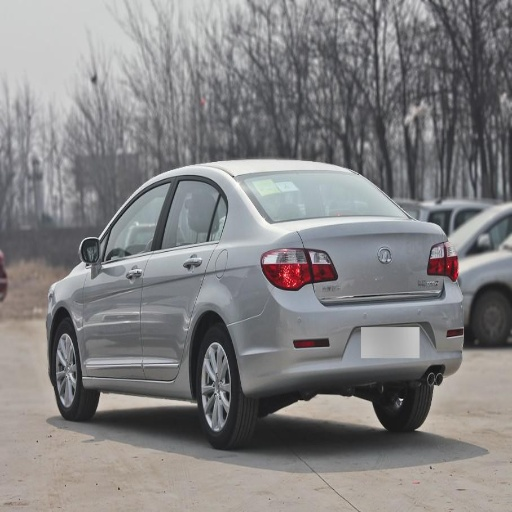back_bumper: (230, 277, 468, 399)
back_glass: (238, 171, 401, 221)
back_left_door: (144, 176, 223, 381)
tailgate: (295, 217, 443, 304)
